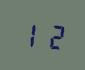one: (19, 18, 41, 49)
two: (42, 20, 64, 51)
